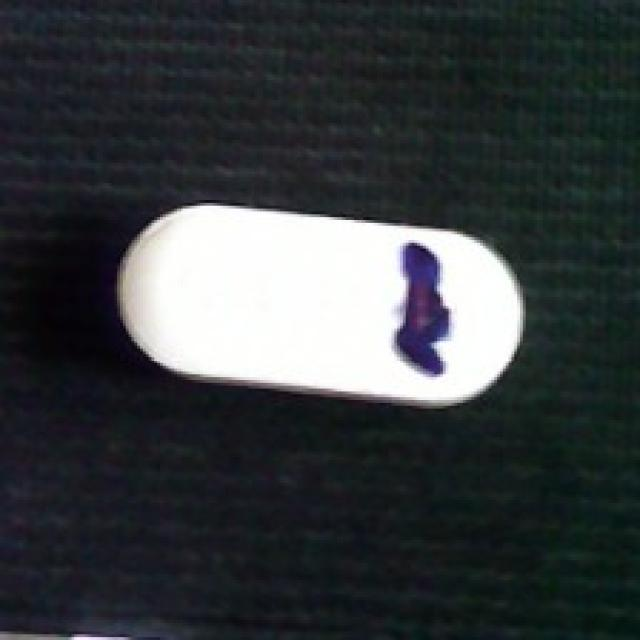defected: (106, 203, 531, 408)
